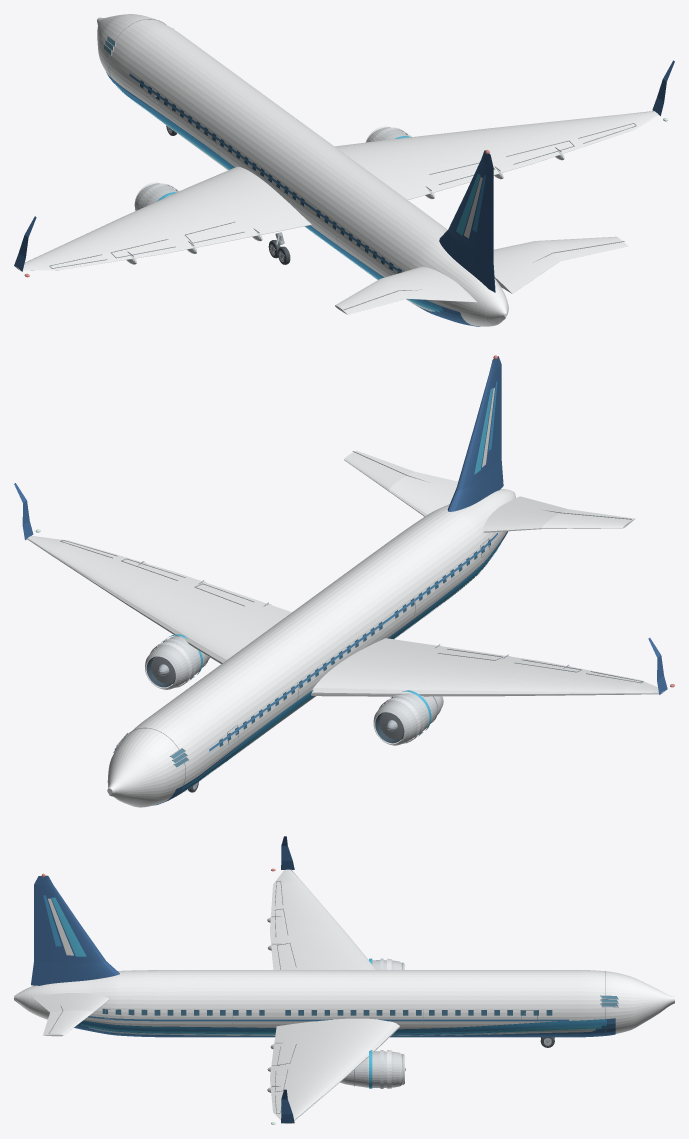
3 views of the same model, one above another, from view 1: azimuth 30°, elevation 25°; view 2: azimuth 150°, elevation 25°; view 3: azimuth 270°, elevation 25° (orthographic). The views are drawn at different scales.
Visible parts, largest first — view 1: surface_white, surface_deepblue, surface_seam, surface_waveblue, surface_grey, surface_skywave, surface_blue, surface_glass, surface_belly; view 2: surface_white, surface_deepblue, surface_grey, surface_seam, surface_waveblue, surface_skywave, surface_blue, surface_fan, surface_glass; view 3: surface_white, surface_deepblue, surface_belly, surface_waveblue, surface_skywave, surface_grey, surface_glass, surface_blue, surface_paintwhite, surface_seam, surface_pinstripe.
Part boxes in pixels (x1=…): surface_white: x1=16, y1=14, x2=658, y2=326; surface_deepblue: x1=14, y1=60, x2=674, y2=292; surface_seam: x1=49, y1=19, x2=636, y2=309; surface_waveblue: x1=111, y1=79, x2=485, y2=310; surface_grey: x1=126, y1=127, x2=564, y2=264; surface_skywave: x1=117, y1=87, x2=480, y2=312; surface_blue: x1=129, y1=73, x2=402, y2=272; surface_glass: x1=140, y1=80, x2=401, y2=273; surface_belly: x1=106, y1=72, x2=480, y2=326; surface_white: x1=27, y1=450, x2=665, y2=807; surface_deepblue: x1=14, y1=356, x2=667, y2=694; surface_grey: x1=141, y1=562, x2=571, y2=745; surface_seam: x1=60, y1=451, x2=643, y2=793; surface_waveblue: x1=180, y1=381, x2=502, y2=791; surface_skywave: x1=163, y1=388, x2=497, y2=792; surface_blue: x1=209, y1=533, x2=497, y2=751; surface_fan: x1=151, y1=657, x2=403, y2=739; surface_glass: x1=219, y1=539, x2=490, y2=746; surface_white: x1=14, y1=869, x2=674, y2=1123; surface_deepblue: x1=31, y1=836, x2=294, y2=1123; surface_belly: x1=74, y1=1018, x2=615, y2=1037; surface_waveblue: x1=43, y1=895, x2=606, y2=1032; surface_skywave: x1=51, y1=897, x2=601, y2=1088; surface_grey: x1=267, y1=916, x2=402, y2=1092; surface_glass: x1=102, y1=1009, x2=552, y2=1015; surface_blue: x1=88, y1=1016, x2=569, y2=1021; surface_paintwhite: x1=48, y1=898, x2=592, y2=1035; surface_seam: x1=41, y1=876, x2=605, y2=1113; surface_pinstripe: x1=88, y1=1027, x2=595, y2=1035.
Bounding box in the file's own units: 36.81 × 11.3 × 39.47.
27 materials, 27 textured.
